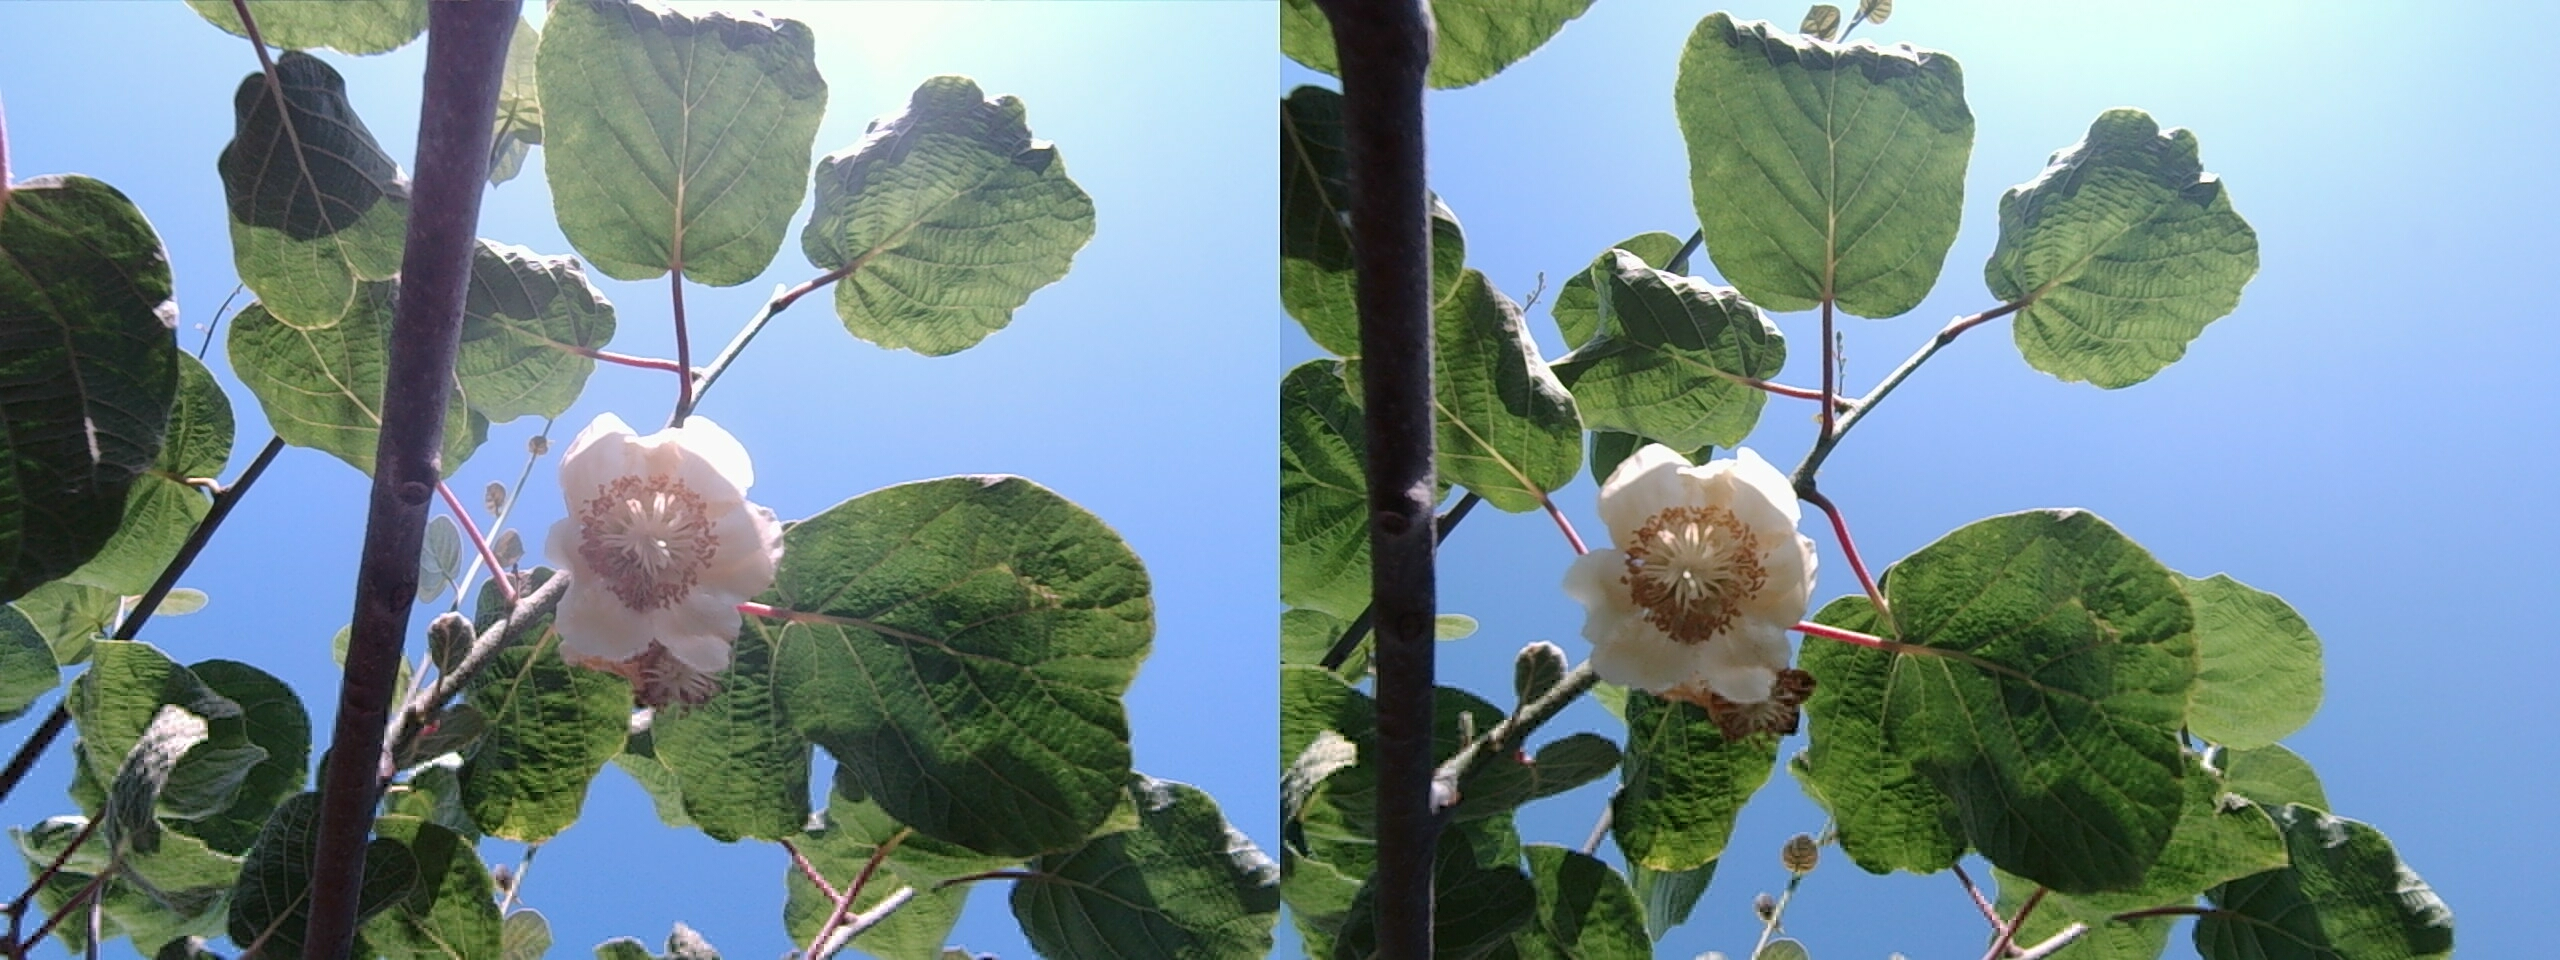flower: (531, 410, 772, 687), (1562, 438, 1806, 704)
